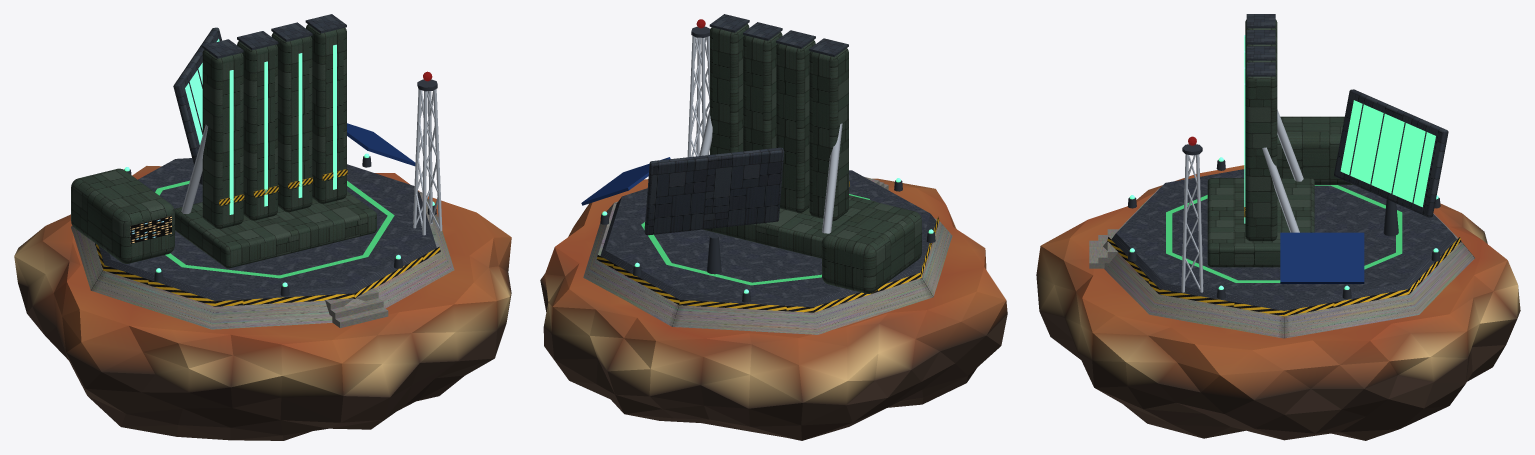
File: bavar-L50.glb
3 renders of one model, left to right at view 1: azimuth 30°, elevation 25°; view 2: azimuth 150°, elevation 25°; view 3: azimuth 270°, elevation 25°, orthographic. The views are drawn at different scales.
Visible parts, largest first — view 1: object 1, object 4, object 2, object 25, object 46, object 26, object 34, object 30, object 38, anim:rot, object 3, object 5 (+13 smaller); view 2: object 1, object 4, anim:rot, object 2, object 46, object 26, object 30, object 38, object 34, object 25, object 3, object 48 (+7 smaller); view 3: object 1, object 4, anim:rot, object 2, object 25, object 38, object 48, object 46, object 3, object 5, object 43, object 42.
Part boxes in pixels (x1,y1,x2,y2): object 1: [14, 166, 511, 440]; object 4: [98, 158, 436, 301]; object 2: [71, 191, 454, 329]; object 25: [174, 191, 376, 268]; object 46: [71, 168, 174, 263]; object 26: [202, 49, 243, 229]; object 34: [271, 32, 312, 212]; object 30: [237, 41, 277, 220]; object 38: [306, 24, 346, 203]; anim:rot: [173, 27, 221, 165]; object 3: [95, 243, 440, 306]; object 5: [155, 180, 394, 278]; object 1: [540, 178, 1007, 440]; object 4: [600, 170, 936, 307]; anim:rot: [644, 147, 784, 235]; object 2: [583, 201, 952, 334]; object 46: [822, 202, 921, 293]; object 26: [809, 48, 848, 221]; object 30: [776, 40, 815, 213]; object 38: [710, 24, 749, 154]; object 34: [743, 32, 782, 151]; object 25: [703, 195, 875, 258]; object 3: [596, 217, 939, 312]; object 48: [581, 157, 670, 205]; object 1: [1036, 165, 1520, 440]; object 4: [1111, 169, 1456, 310]; anim:rot: [1334, 89, 1448, 217]; object 2: [1103, 188, 1474, 338]; object 25: [1207, 178, 1314, 267]; object 38: [1245, 68, 1277, 241]; object 48: [1280, 232, 1364, 283]; object 46: [1277, 116, 1352, 184]; object 3: [1107, 237, 1461, 316]; object 5: [1166, 185, 1402, 282]; object 43: [1262, 147, 1299, 232]; object 42: [1277, 109, 1303, 181].
Size of the model in its own units: 6.29 by 4.9 by 6.33.
Materials: 14 (7 with a texture image).
